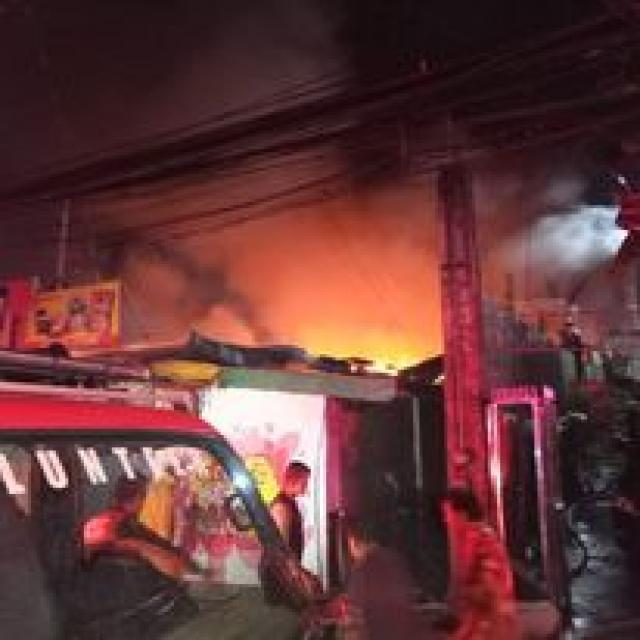Fire: (305, 306, 447, 399)
